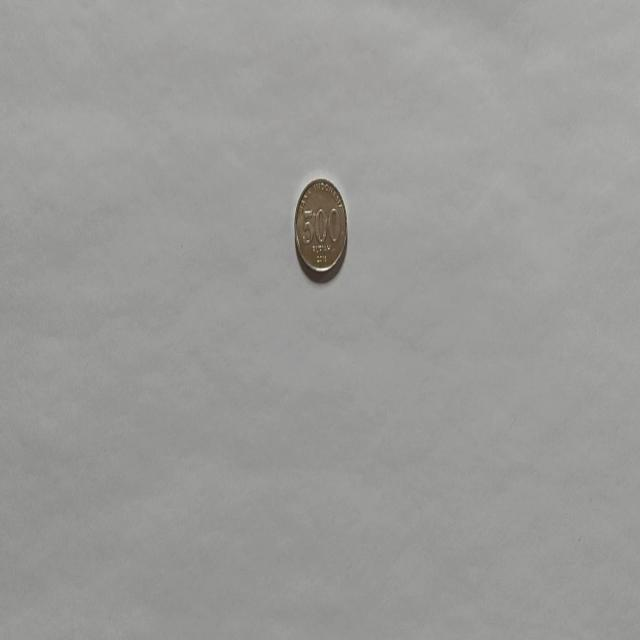lima ratus rupiah: (293, 176, 348, 279)
